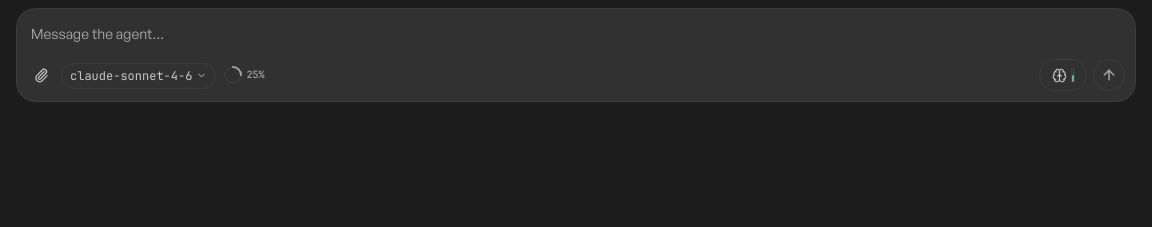
Composer › shared-config hint (Boss) › warns that a persisting level also rewrites the operator's own sessions
Click the button with test id "effort-chip" at [1063, 75], box [1039, 59, 1087, 91]
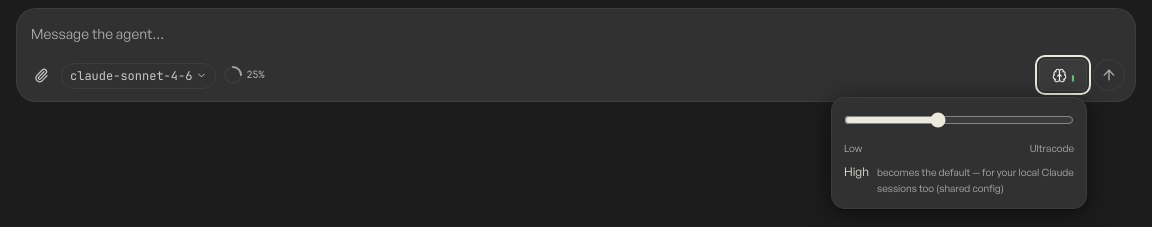
Result: the element with test id "effort-menu" shows "shared config" at [877, 166, 1074, 194]
# Session-only-Stufen bleiben harmlos beschriftet:
Set the slider with test id "effort-slider" to "4" at [1023, 120], box [844, 112, 1074, 128]
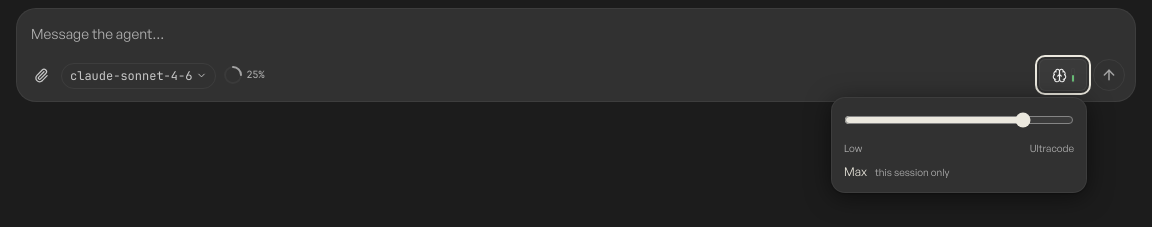
Result: the element with test id "effort-menu" shows "this session only" at [875, 166, 949, 178]
